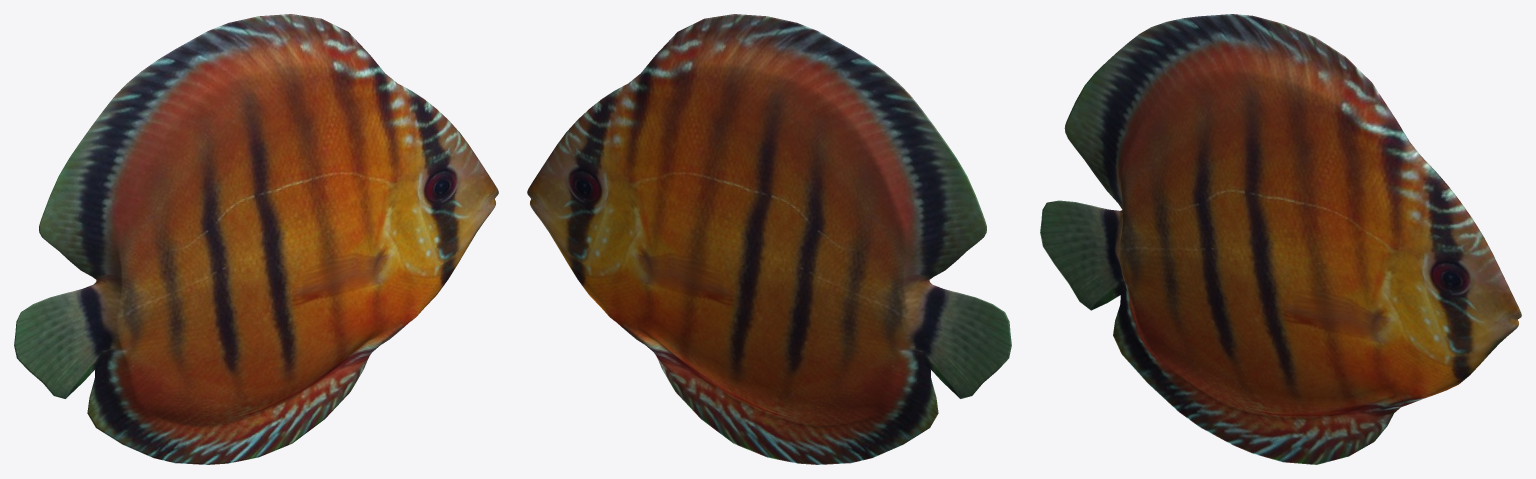
File: discus_1.glb
The picture shows the model from 3 angles, left to right: view 1: azimuth 30°, elevation 25°; view 2: azimuth 150°, elevation 25°; view 3: azimuth 330°, elevation 25°; orthographic projection.
Parts seen in each view (by area): view 1: Discus_Final; view 2: Discus_Final; view 3: Discus_Final.
Boxes of the visible parts, x1,y1,x2,y2 form: Discus_Final: (14,14,498,464); Discus_Final: (527,14,1011,464); Discus_Final: (1040,14,1521,464).
Size of the model in its own units: 80.04 by 69.72 by 10.54.
1 material, 1 textured.
